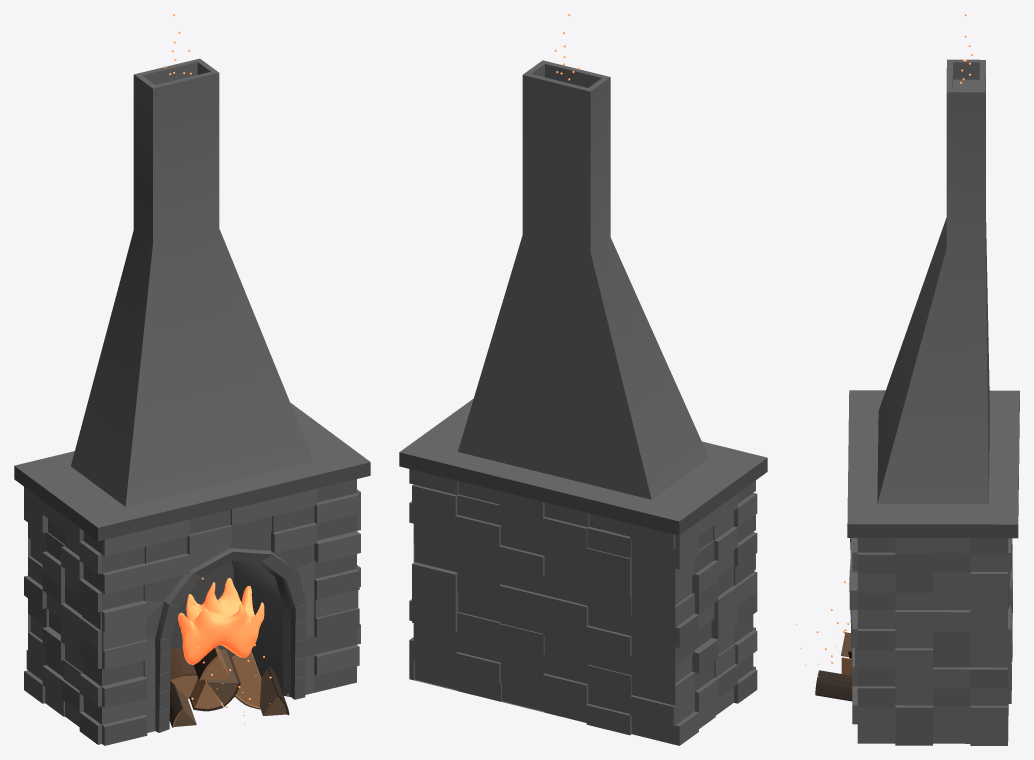
Rendered from Camino.fbx.
3 views of the same model, side by side, from view 1: azimuth 30°, elevation 25°; view 2: azimuth 150°, elevation 25°; view 3: azimuth 270°, elevation 25° (orthographic). The views are drawn at different scales.
Parts seen in each view (by area): view 1: Fireplace.001; view 2: Fireplace.001; view 3: Fireplace.001.
Part boxes in pixels (x1,y1,x2,y2): Fireplace.001: (14,14,370,745); Fireplace.001: (399,14,767,745); Fireplace.001: (796,14,1019,745).
Size of the model in its own units: 454 by 1051 by 320.
